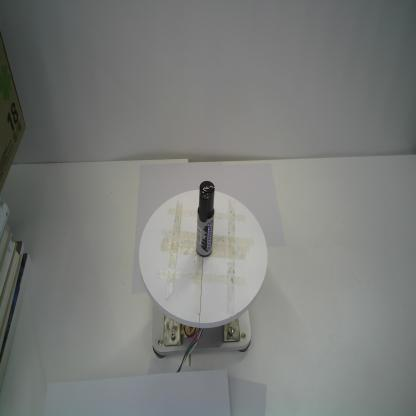Stationery: (196, 180, 215, 257)
